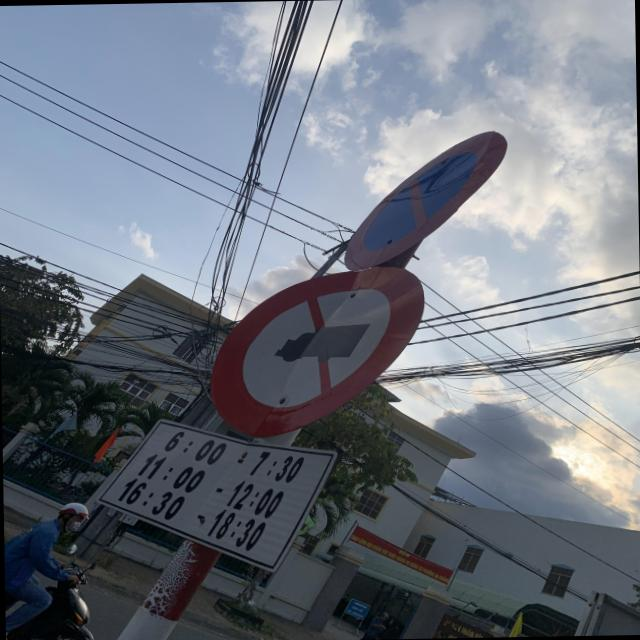Cam_Dau_Xe: (342, 130, 512, 273)
Cam_Xe_Tai: (205, 268, 425, 436)
